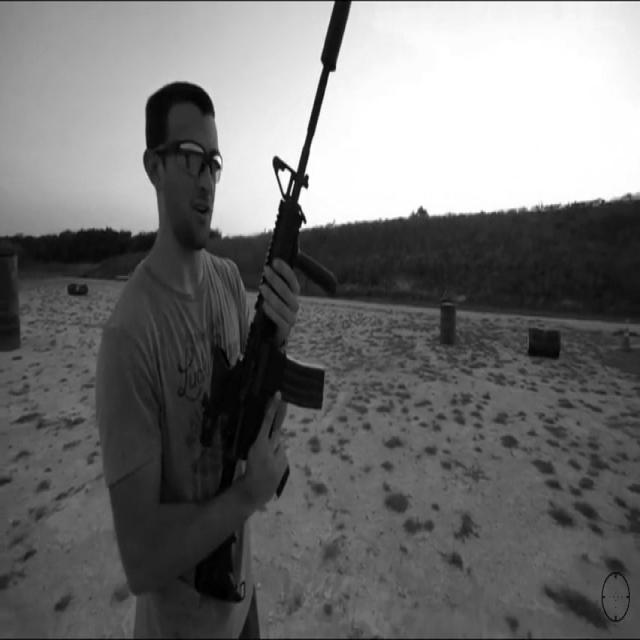Sniper: (206, 0, 378, 611)
